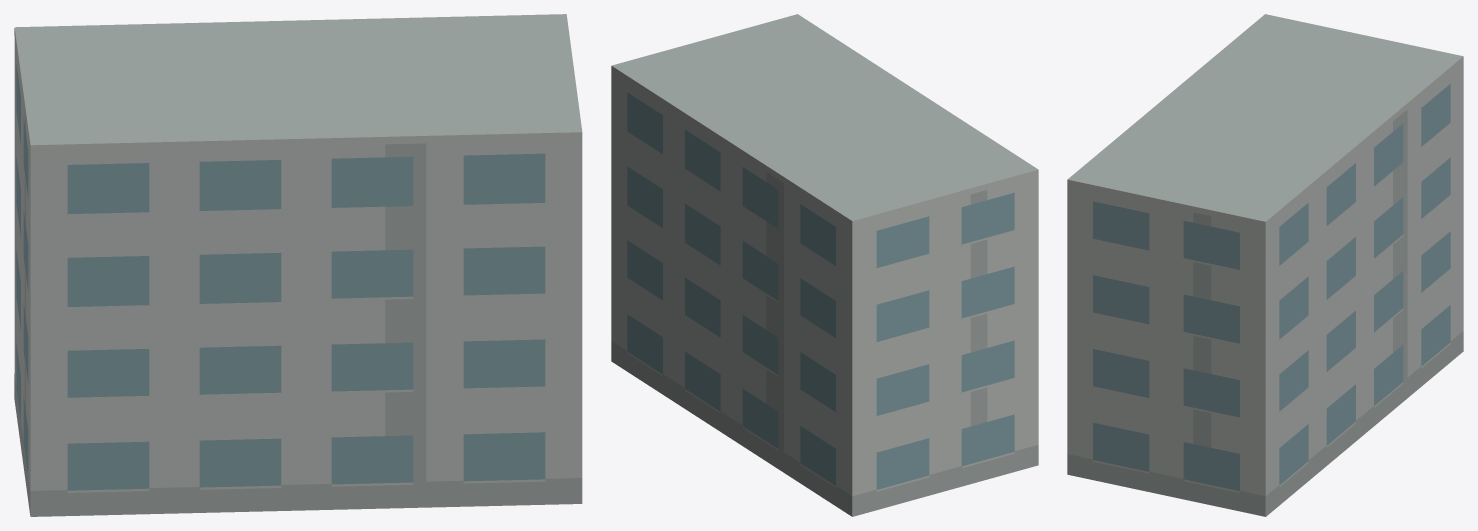
The model's file is residential-f4acaa7a-3180-48d7-8266-d5f1bc110631.glb.
The picture shows the model from 3 angles, left to right: view 1: azimuth 30°, elevation 25°; view 2: azimuth 150°, elevation 25°; view 3: azimuth 270°, elevation 25°; orthographic projection. The views are drawn at different scales.
Visible parts, largest first — view 1: residential-f4acaa7a-3180-48d7-8266-d5f1bc110631.tmp; view 2: residential-f4acaa7a-3180-48d7-8266-d5f1bc110631.tmp; view 3: residential-f4acaa7a-3180-48d7-8266-d5f1bc110631.tmp.
Boxes of the visible parts, box(x1,y1,x2,y2) form: residential-f4acaa7a-3180-48d7-8266-d5f1bc110631.tmp: box(14, 14, 582, 516); residential-f4acaa7a-3180-48d7-8266-d5f1bc110631.tmp: box(611, 14, 1038, 516); residential-f4acaa7a-3180-48d7-8266-d5f1bc110631.tmp: box(1067, 14, 1463, 516).
Size of the model in its own units: 18.14 by 12 by 14.62.
